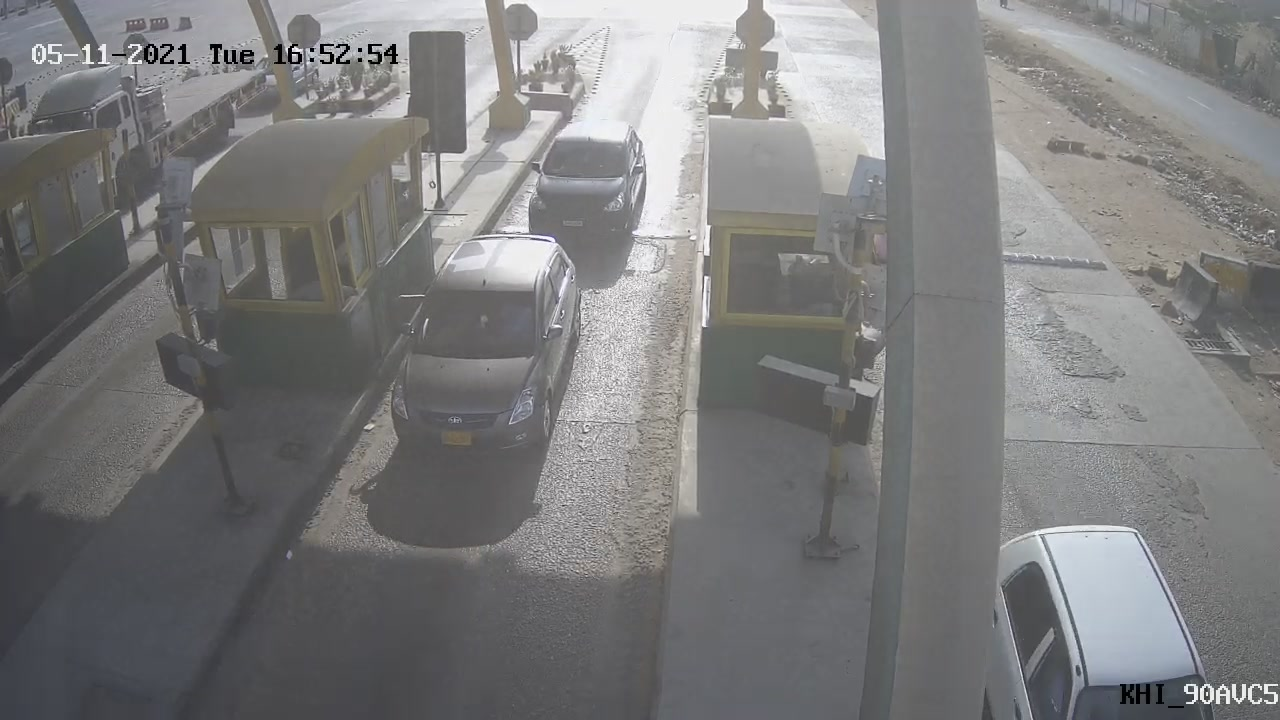F1: (360, 211, 611, 482), (508, 103, 660, 255)
